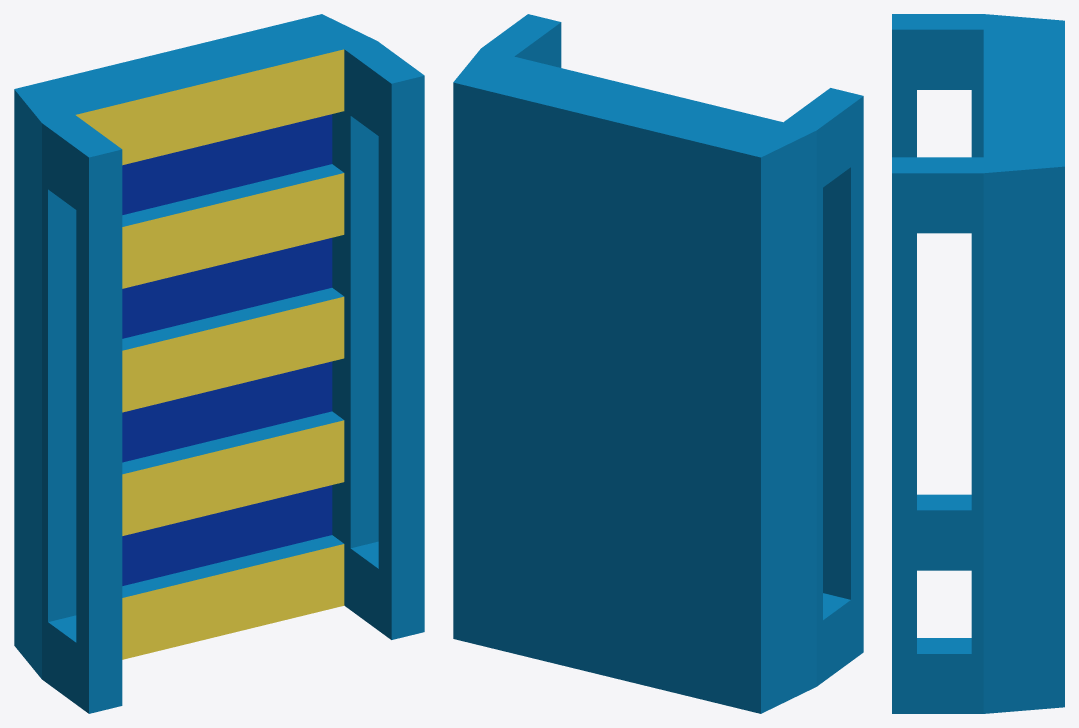
The model's file is Escaleras_Nave.fbx.
3 views of the same model, side by side, from view 1: azimuth 30°, elevation 25°; view 2: azimuth 150°, elevation 25°; view 3: azimuth 270°, elevation 25° (orthographic). The views are drawn at different scales.
Parts seen in each view (by area): view 1: Nave.001; view 2: Nave.001; view 3: Nave.001.
Boxes of the visible parts, bbox=[...] form: Nave.001: bbox=[14, 14, 424, 713]; Nave.001: bbox=[453, 14, 863, 713]; Nave.001: bbox=[892, 14, 1064, 713].
Bounding box in the file's own units: 185 × 293 × 84.83.
